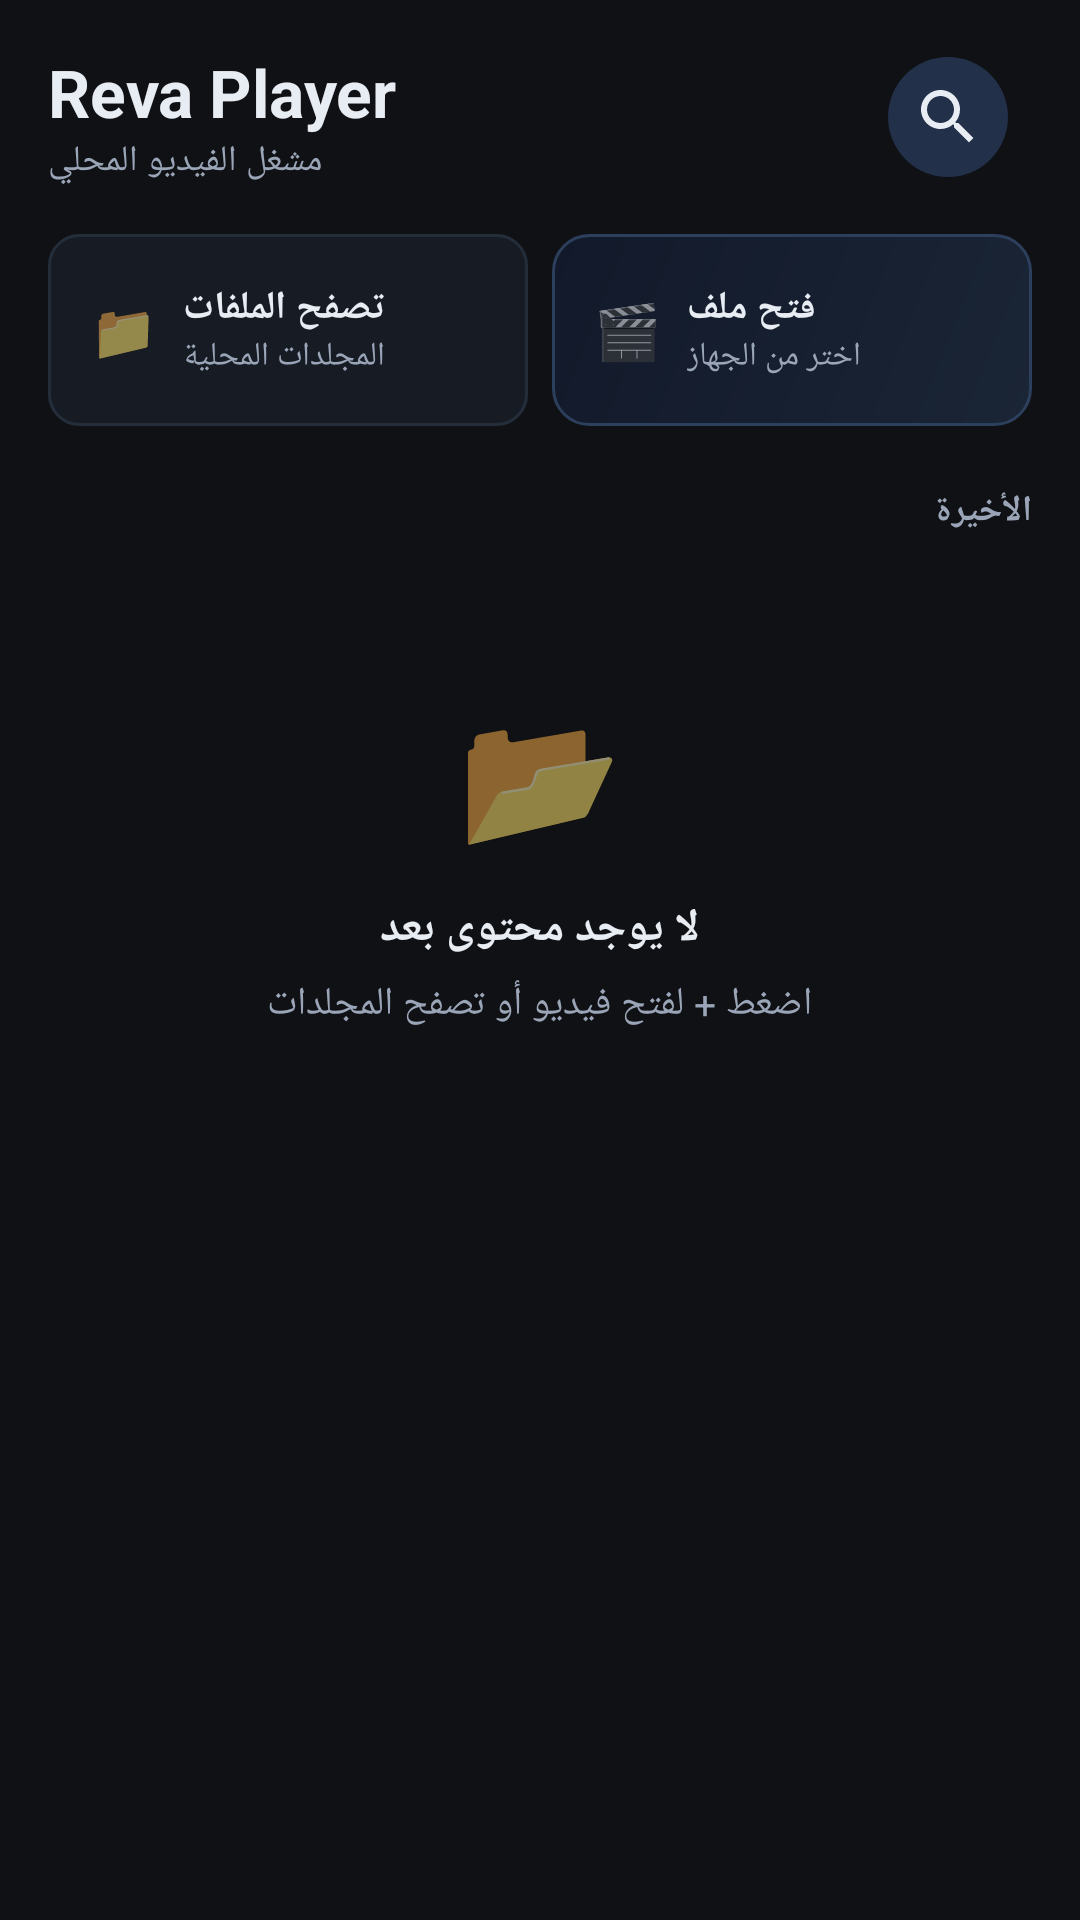

Screen size 1080*1920. Icon name, then its center in pixels as (x=x, y=y):
search: (x=948, y=117)
